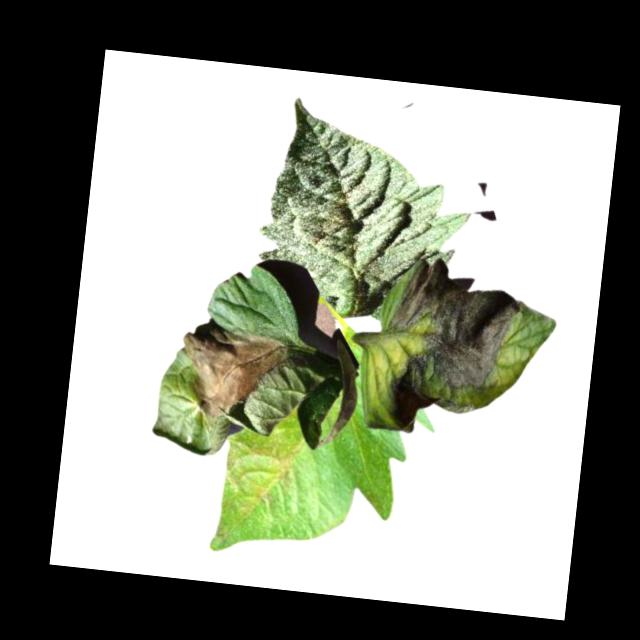Late_blight: (376, 254, 527, 442), (173, 314, 296, 429), (219, 416, 309, 524)
healthy: (250, 94, 480, 330)
